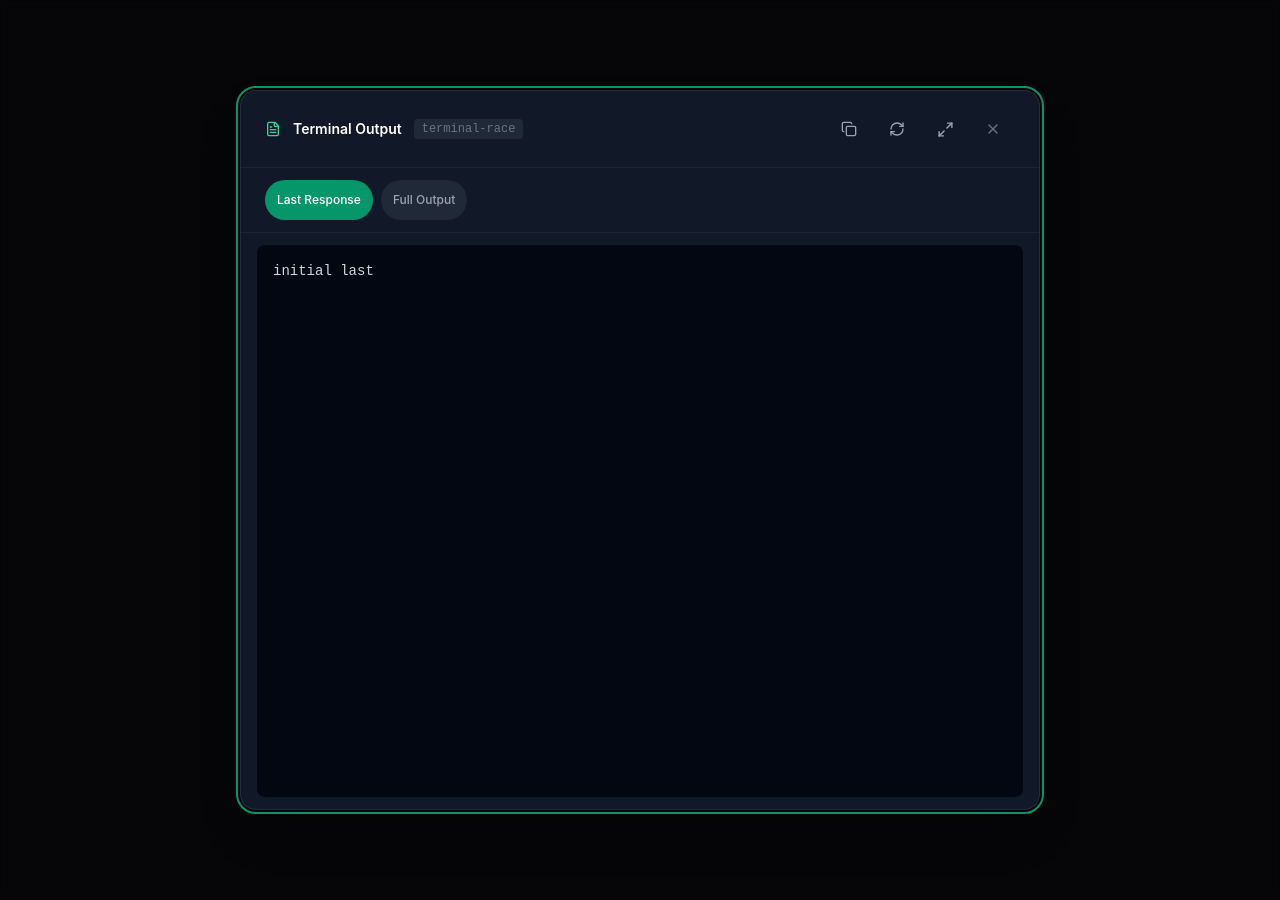
it: OutputViewer fullscreen › keeps Last and Full isolated when delayed responses settle out of order
Expected: the text "initial last" is shown, [257,245,1023,797]
Click the button "Full Output".
click(424, 200)  # box [381,180,467,220]
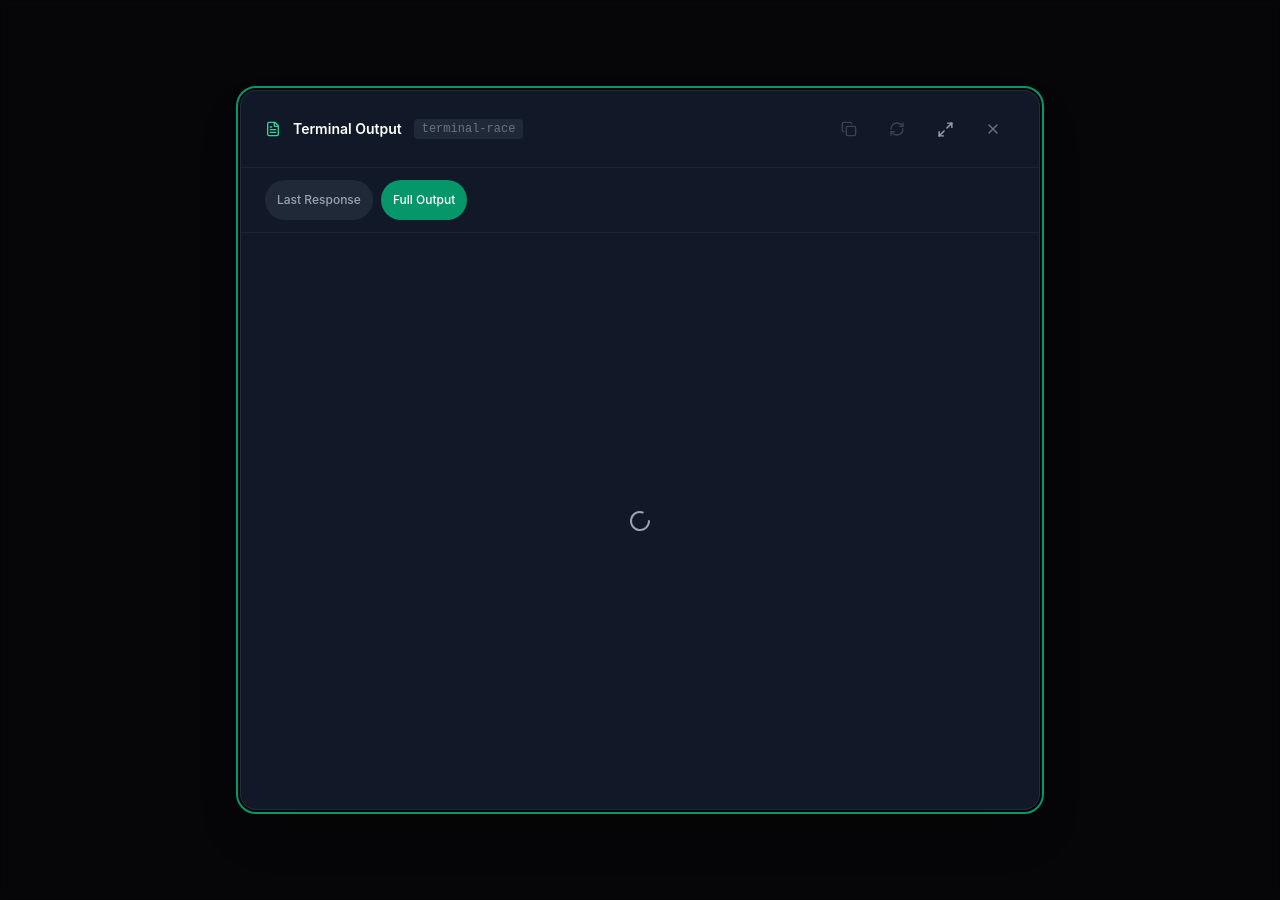
Click the button "Last Response".
click(319, 200)  # box [265,180,373,220]
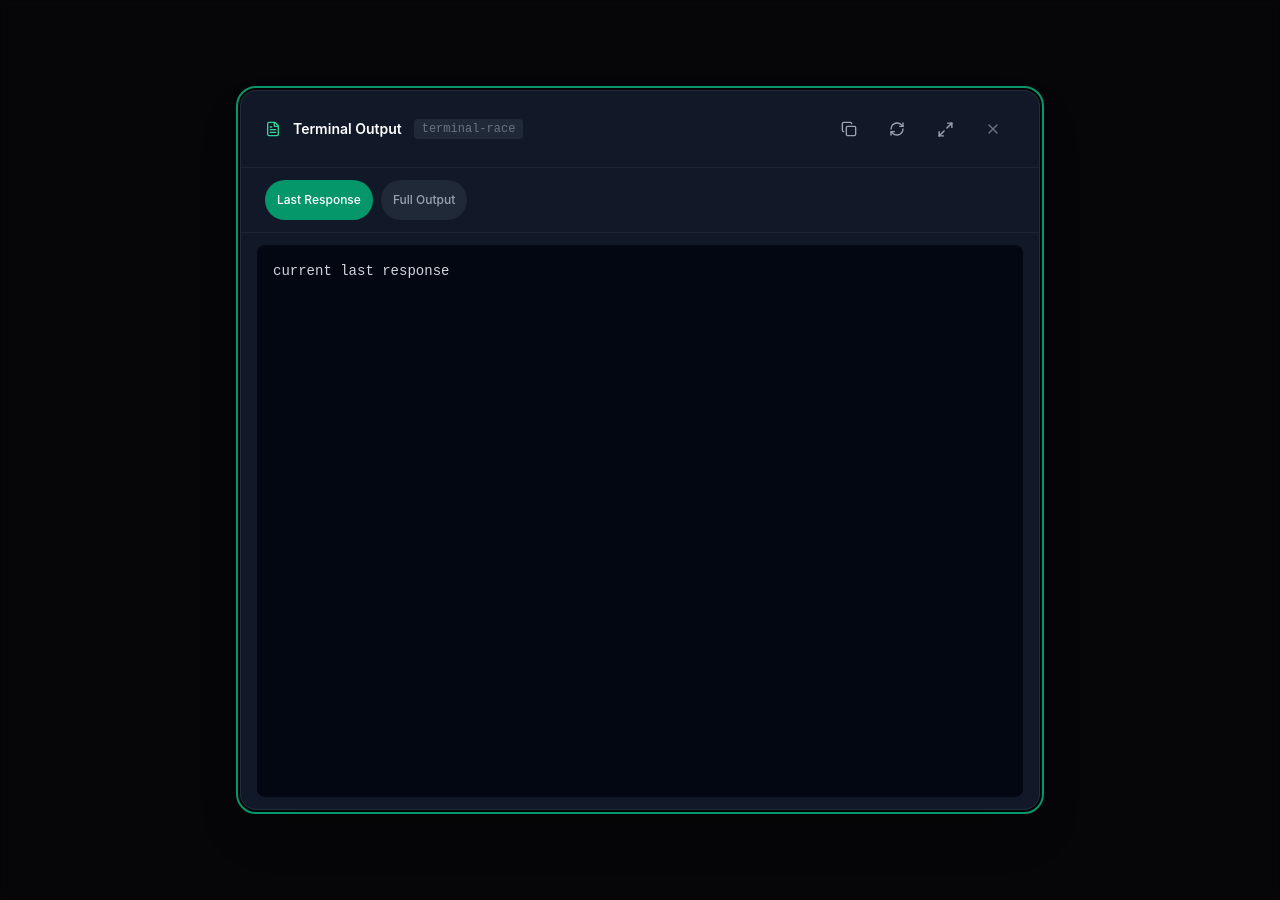
Expected: the text "current last response" is shown, [257,245,1023,797]
